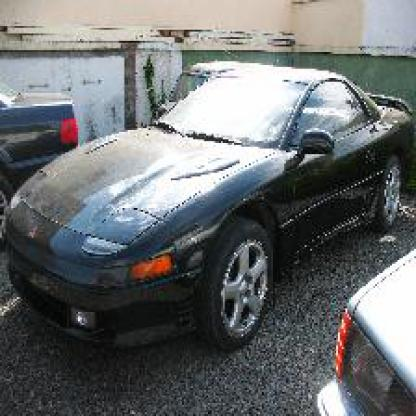not_emergency: (9, 65, 403, 301)
